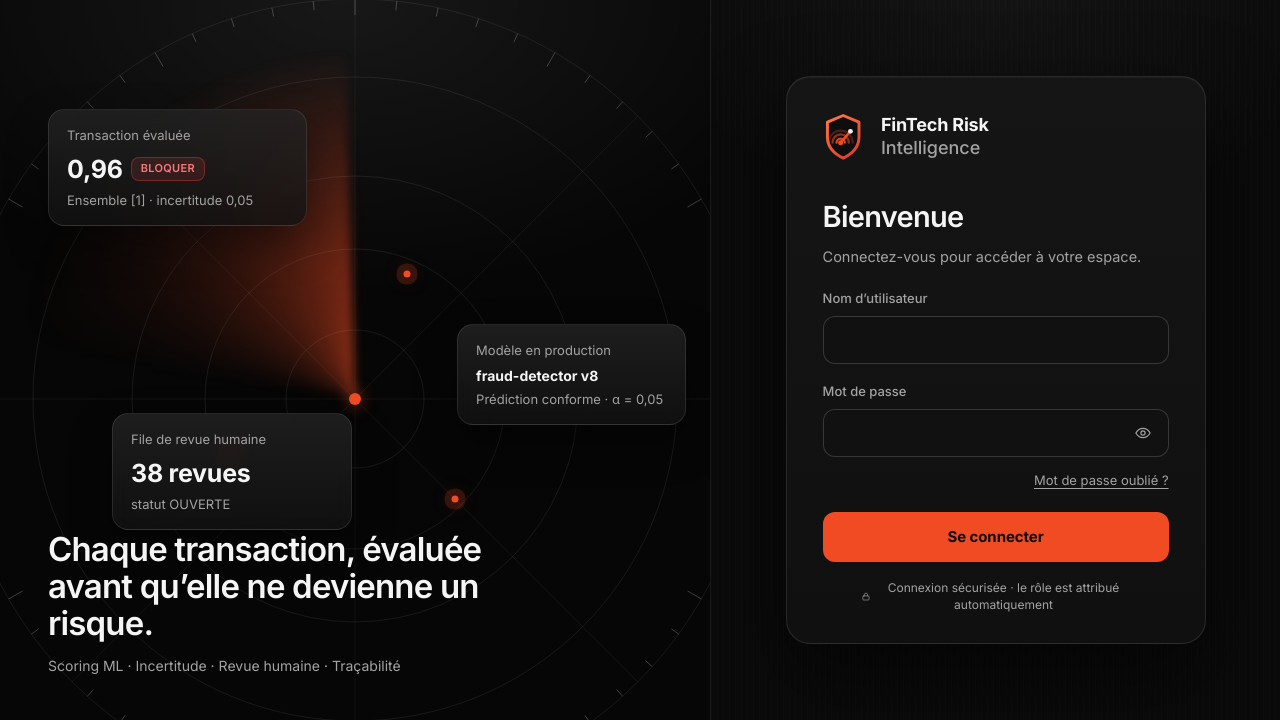
Scenario: connexion › exige les deux champs
The image size is (1280, 720).
Click the button "Se connecter": coordinates (996, 537) [822,512,1168,562]
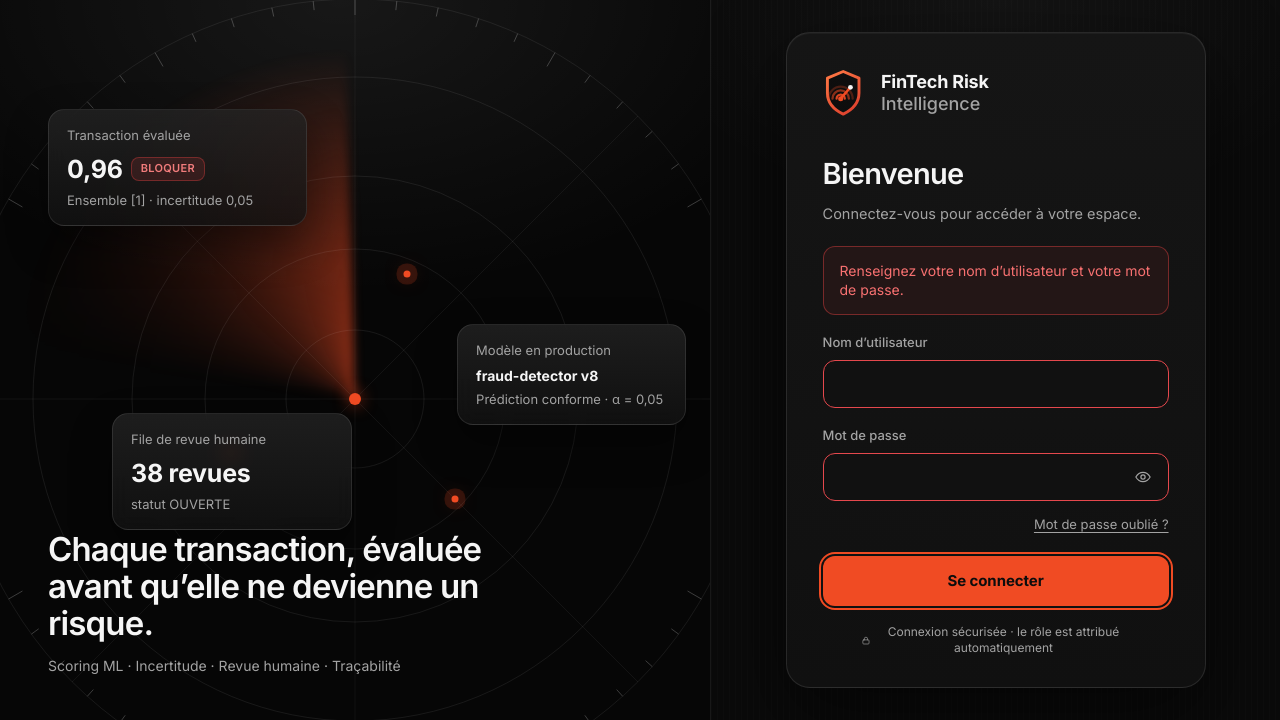
Result: the message shows "Renseignez" at [840,262,1150,298]
